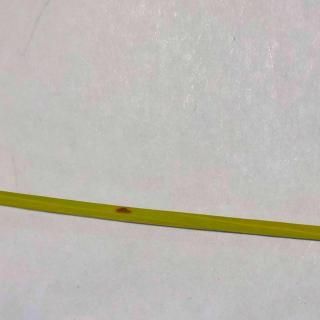Blast: (96, 193, 144, 226)
